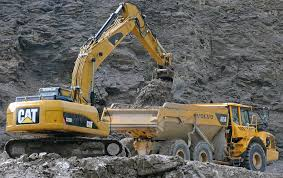excavator: (5, 2, 176, 161)
truck: (102, 102, 280, 171)
